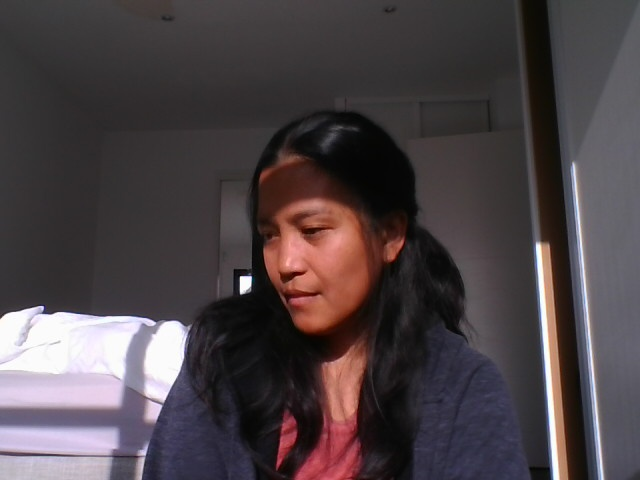face: (254, 110, 414, 334)
